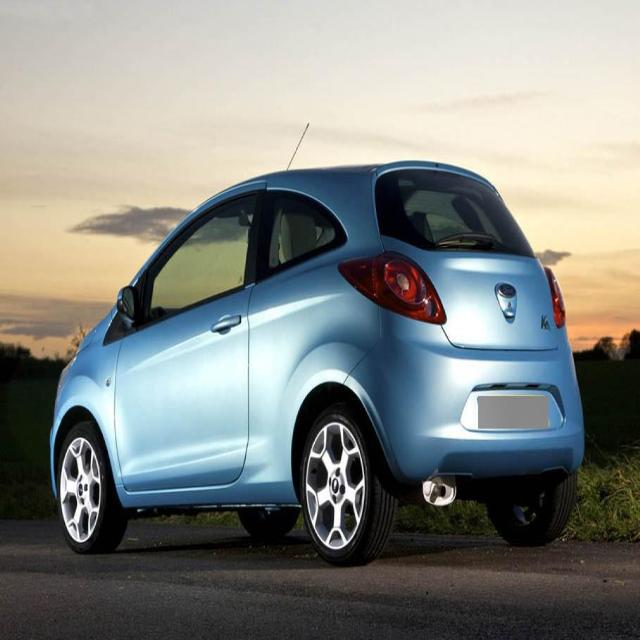back_glass: (375, 169, 533, 254)
back_left_side_light: (337, 248, 448, 329)
back_right_side_light: (546, 263, 569, 326)
front_left_side_light: (112, 176, 268, 497)
front_left_side_mirror: (117, 280, 140, 324)
rear_bumper: (342, 341, 582, 483)
wheel: (302, 412, 379, 562), (57, 423, 118, 553)
